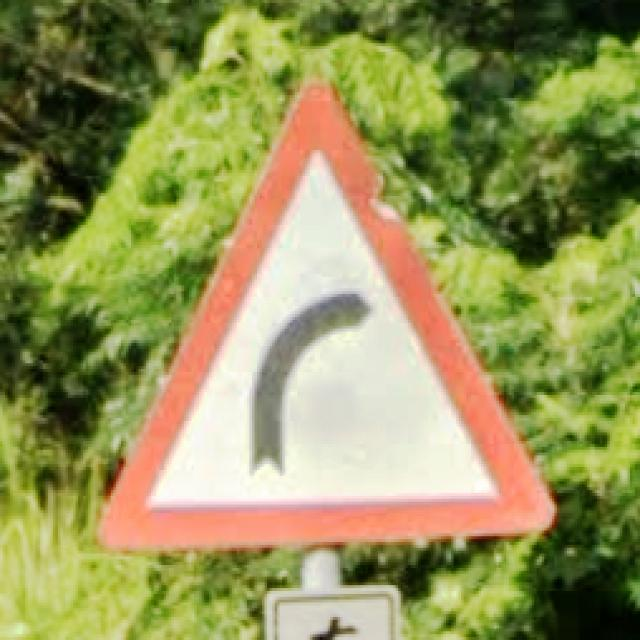rightbend: (98, 78, 557, 554)
